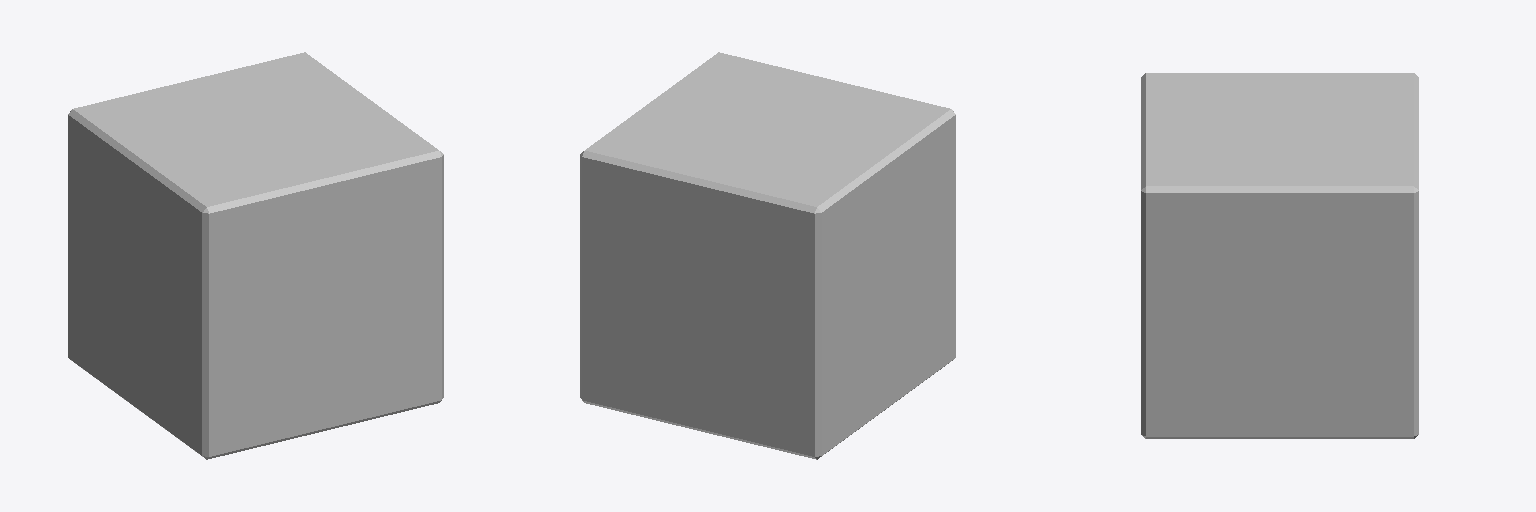
The model's file is ScaleDummy.obj.
3 views of the same model, side by side, from view 1: azimuth 30°, elevation 25°; view 2: azimuth 150°, elevation 25°; view 3: azimuth 270°, elevation 25° (orthographic).
Parts seen in each view (by area): view 1: Box001; view 2: Box001; view 3: Box001.
Boxes of the visible parts, x1=… form: Box001: x1=68, y1=52, x2=443, y2=459; Box001: x1=580, y1=52, x2=955, y2=459; Box001: x1=1141, y1=73, x2=1418, y2=438.
Bounding box in the file's own units: 0.9842 × 0.9842 × 0.9842.